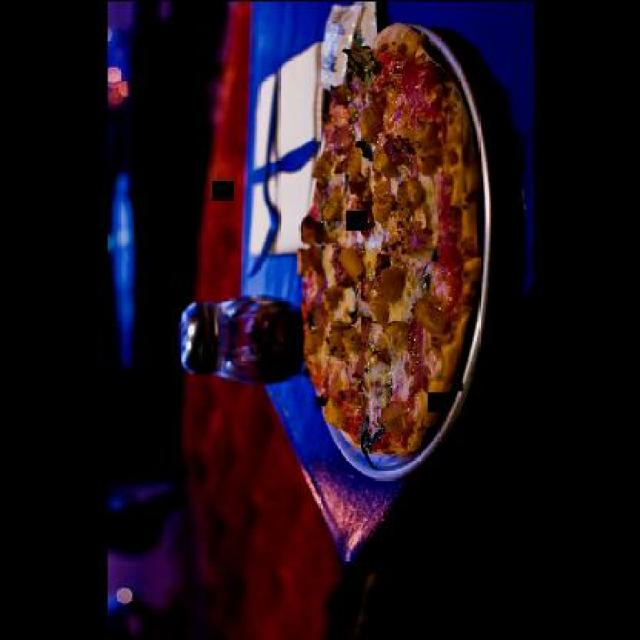unauthorized: (295, 20, 483, 465)
